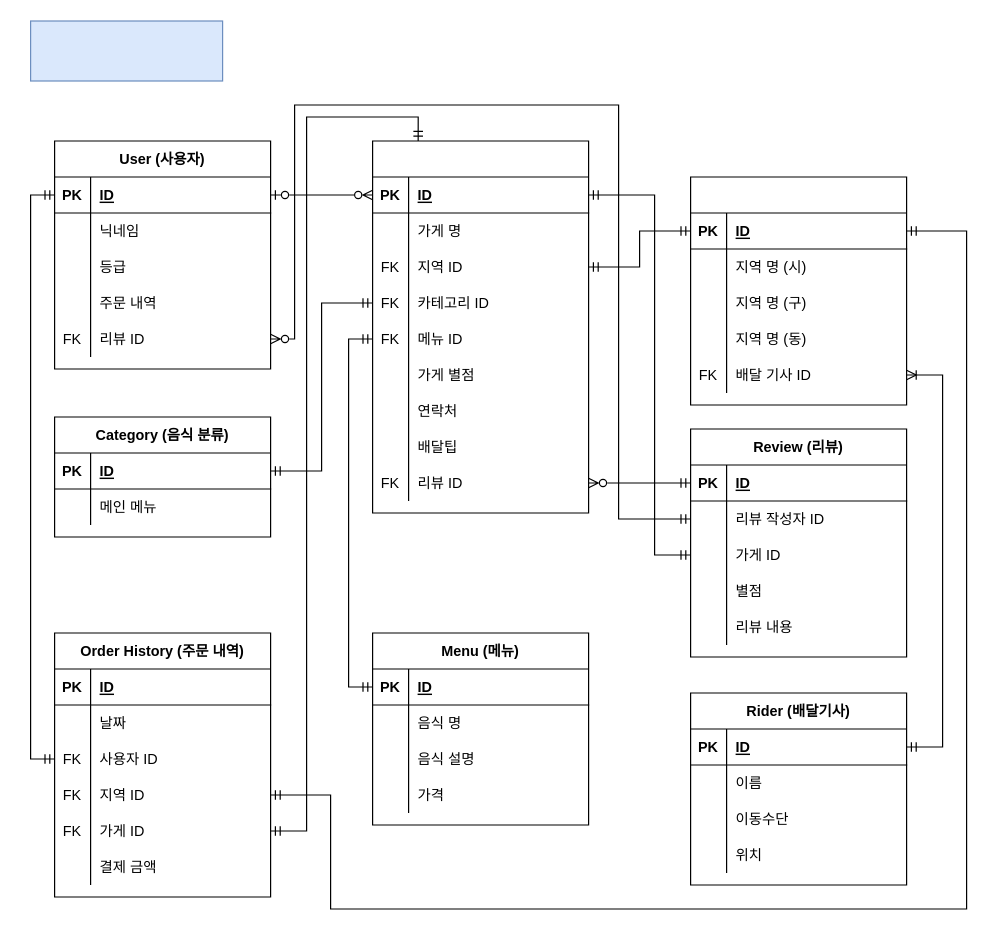
The diagram is 998 pixels wide and 941 high, and some of its shapes have lost their labels. Each missing label, with the box of its shape:
Location (지역): (689, 176, 907, 405)
Store (가게): (371, 140, 589, 513)
배달의 민족: (29, 20, 223, 81)
